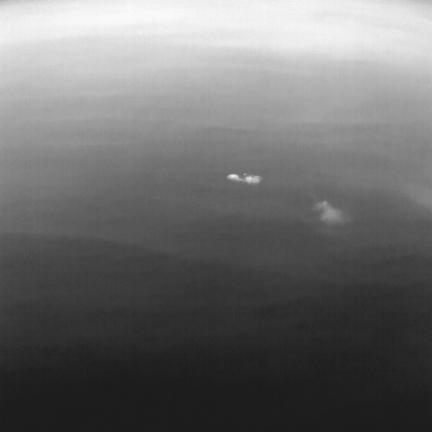flukeprints: (315, 201, 344, 224), (240, 174, 261, 183), (227, 174, 240, 180)
